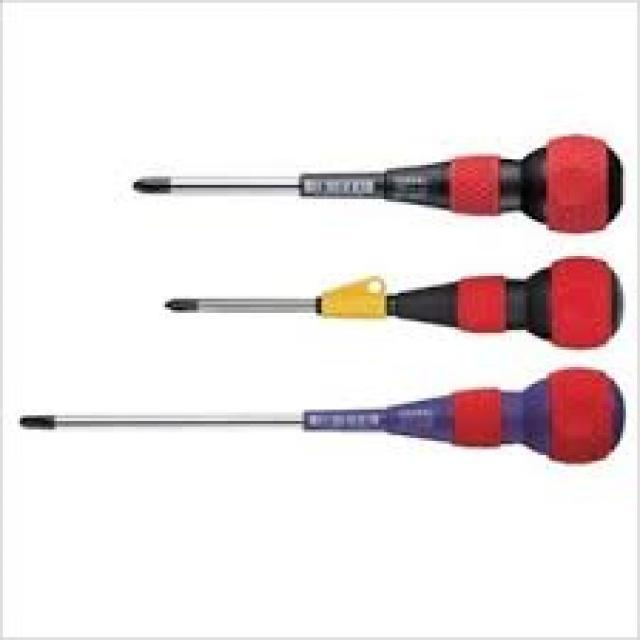screwdriver: (15, 365, 628, 468), (126, 130, 624, 238), (165, 254, 626, 352)
